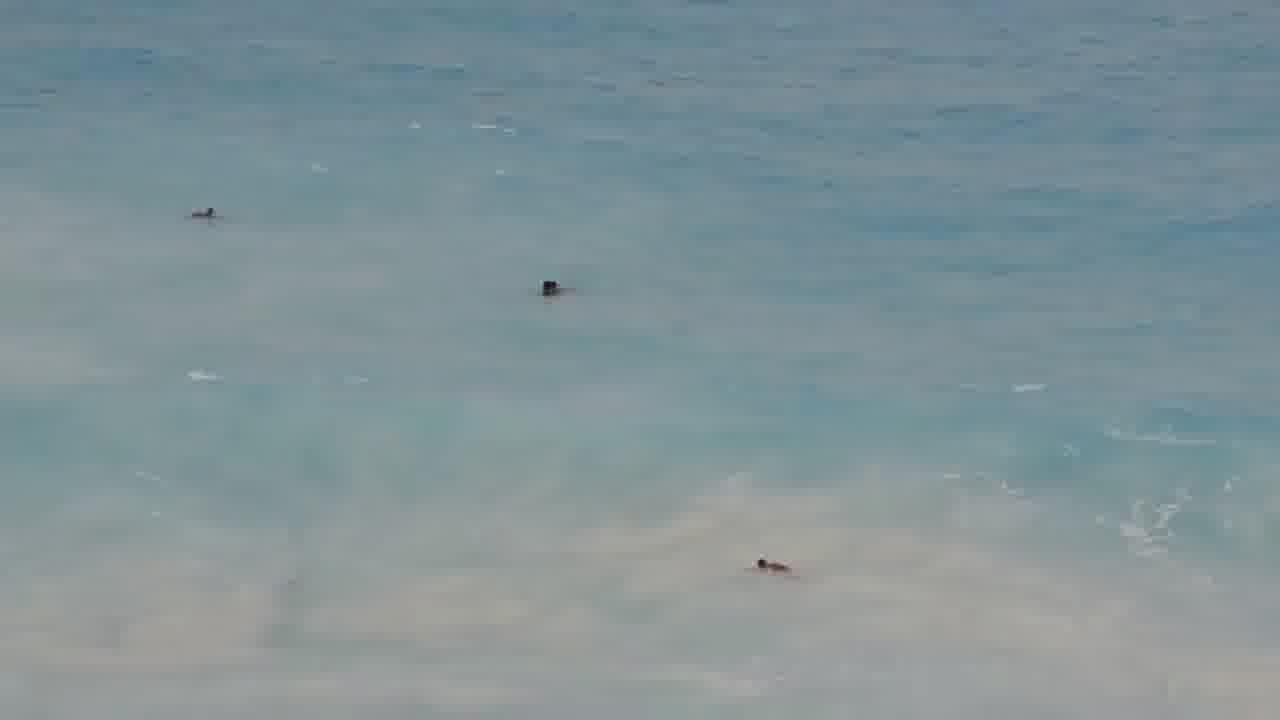human: (524, 273, 588, 321), (731, 533, 790, 581), (180, 199, 231, 235)
